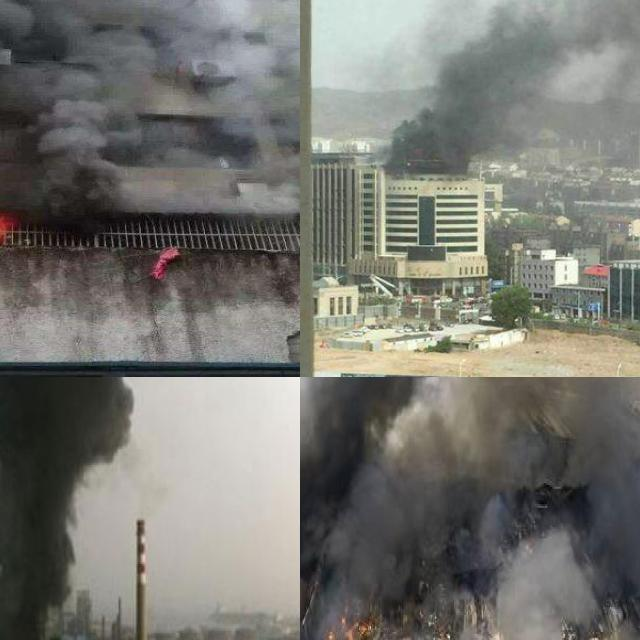fire: (320, 608, 371, 640)
smoke: (300, 377, 640, 640), (0, 0, 300, 227), (0, 377, 205, 640), (368, 0, 640, 170)
